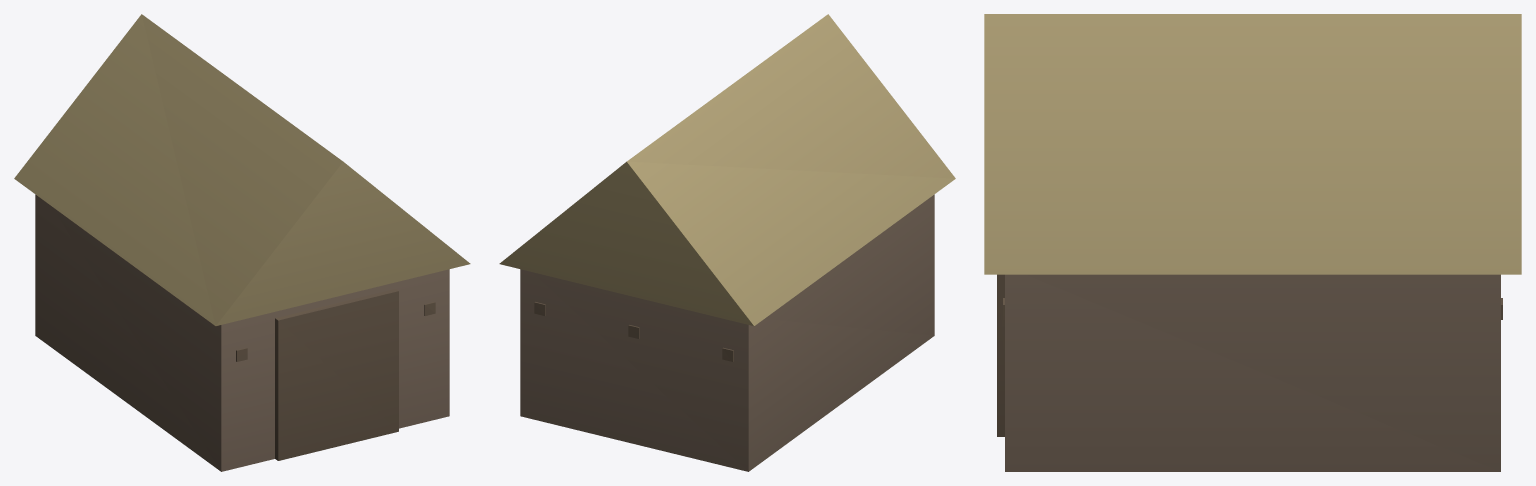
The model's file is barn.glb.
3 views of the same model, side by side, from view 1: azimuth 30°, elevation 25°; view 2: azimuth 150°, elevation 25°; view 3: azimuth 270°, elevation 25° (orthographic). The views are drawn at different scales.
Parts seen in each view (by area): view 1: barn; view 2: barn; view 3: barn.
Boxes of the visible parts, left/top/right/bottom form: barn: left=14, top=14, right=470, bottom=471; barn: left=499, top=14, right=955, bottom=471; barn: left=984, top=14, right=1521, bottom=471.
Size of the model in its own units: 1.9 by 2.05 by 2.6.
